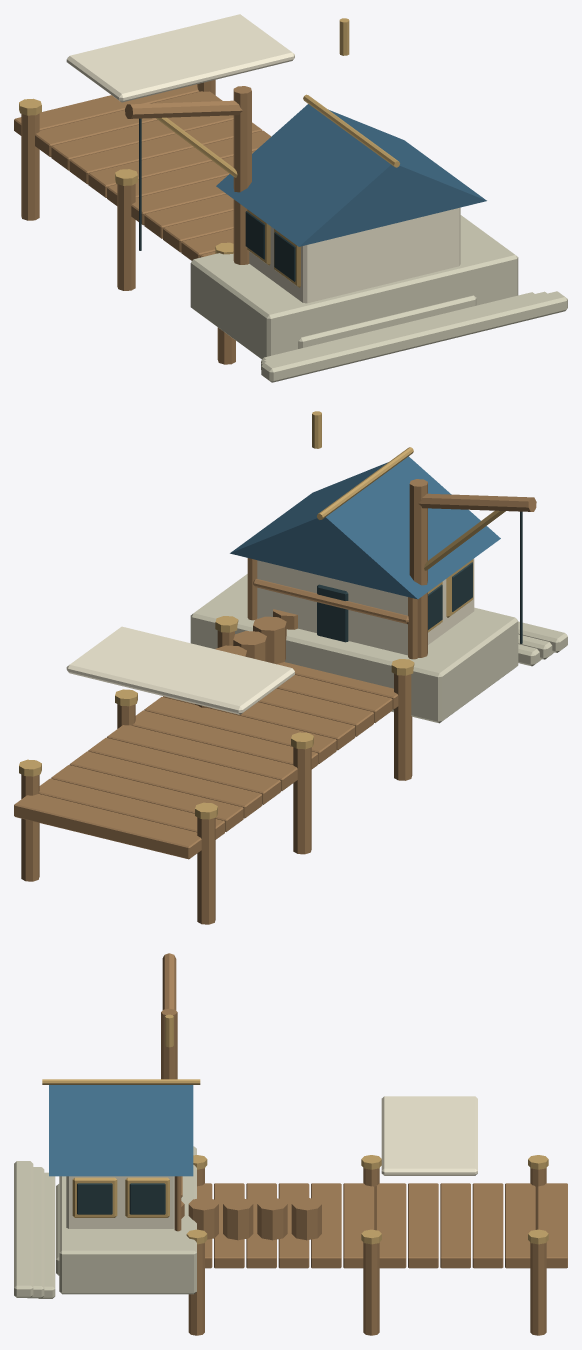
File: level_19.glb
3 views of the same model, one above another, from view 1: azimuth 30°, elevation 25°; view 2: azimuth 150°, elevation 25°; view 3: azimuth 270°, elevation 25° (orthographic). The views are drawn at different scales.
Parts seen in each view (by area): view 1: fishing_wharf — level 19; view 2: fishing_wharf — level 19; view 3: fishing_wharf — level 19.
Part boxes in pixels (left/top/right/bottom): fishing_wharf — level 19: left=14, top=14, right=567, bottom=382; fishing_wharf — level 19: left=14, top=411, right=567, bottom=924; fishing_wharf — level 19: left=14, top=953, right=567, bottom=1335.
Size of the model in its own units: 5.14 by 4.56 by 8.06.
